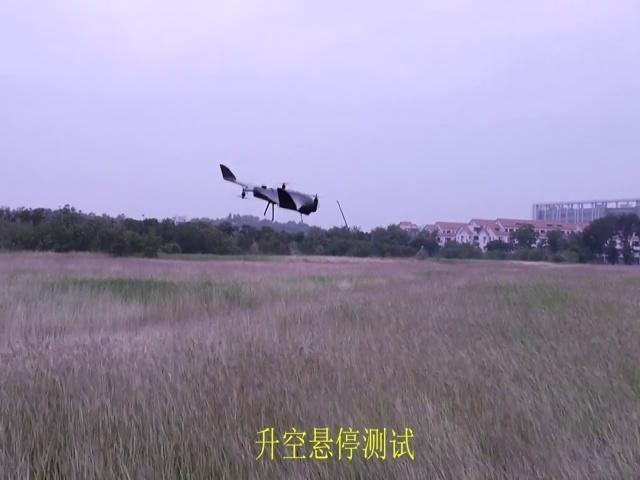Airplane: (220, 163, 319, 221)
